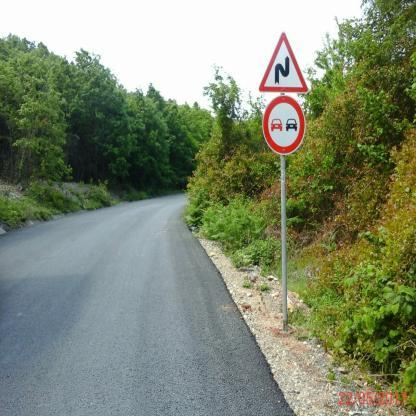road_sign: (260, 32, 307, 93), (263, 96, 305, 155)
